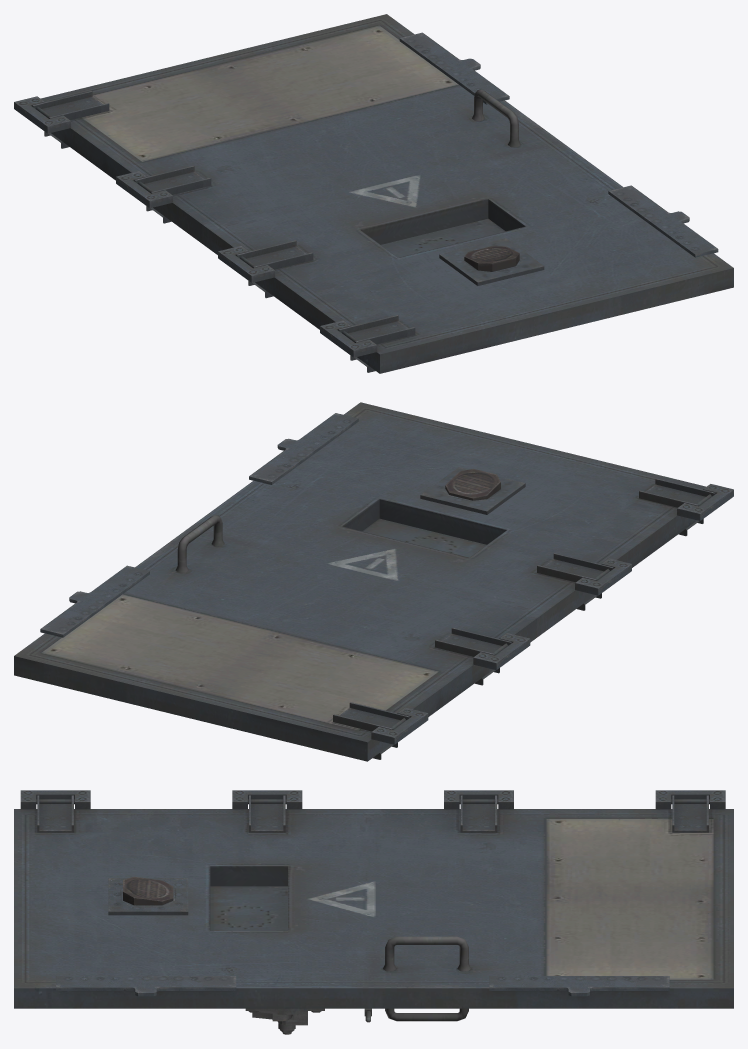
File: p_int_blue_door_LOD0.obj
3 renders of one model, top to bottom at view 1: azimuth 30°, elevation 25°; view 2: azimuth 150°, elevation 25°; view 3: azimuth 270°, elevation 25°, orthographic. The views are drawn at different scales.
Parts seen in each view (by area): view 1: mtl_p_int_blue_door; view 2: mtl_p_int_blue_door; view 3: mtl_p_int_blue_door.
Boxes of the visible parts, x1,y1,x2,y2 form: mtl_p_int_blue_door: [14, 14, 733, 373]; mtl_p_int_blue_door: [14, 402, 733, 761]; mtl_p_int_blue_door: [14, 790, 733, 1034].
Bounding box in the file's own units: 169 × 36.85 × 259.
1 material, 1 textured.
